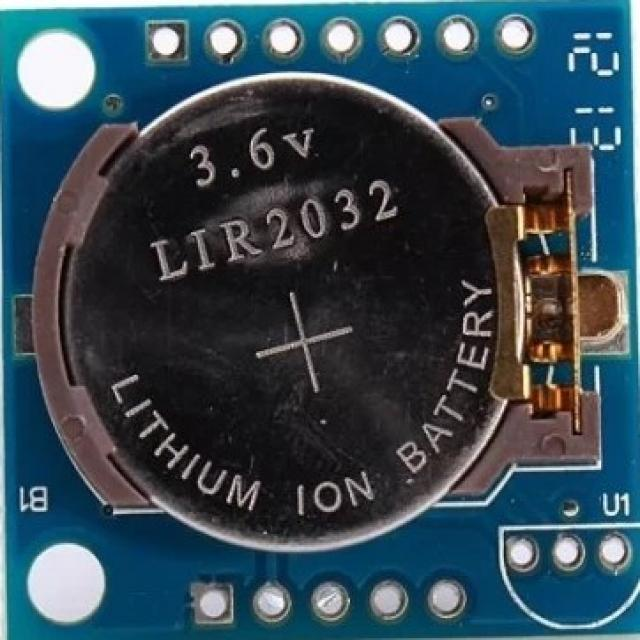battery: (41, 70, 560, 544)
